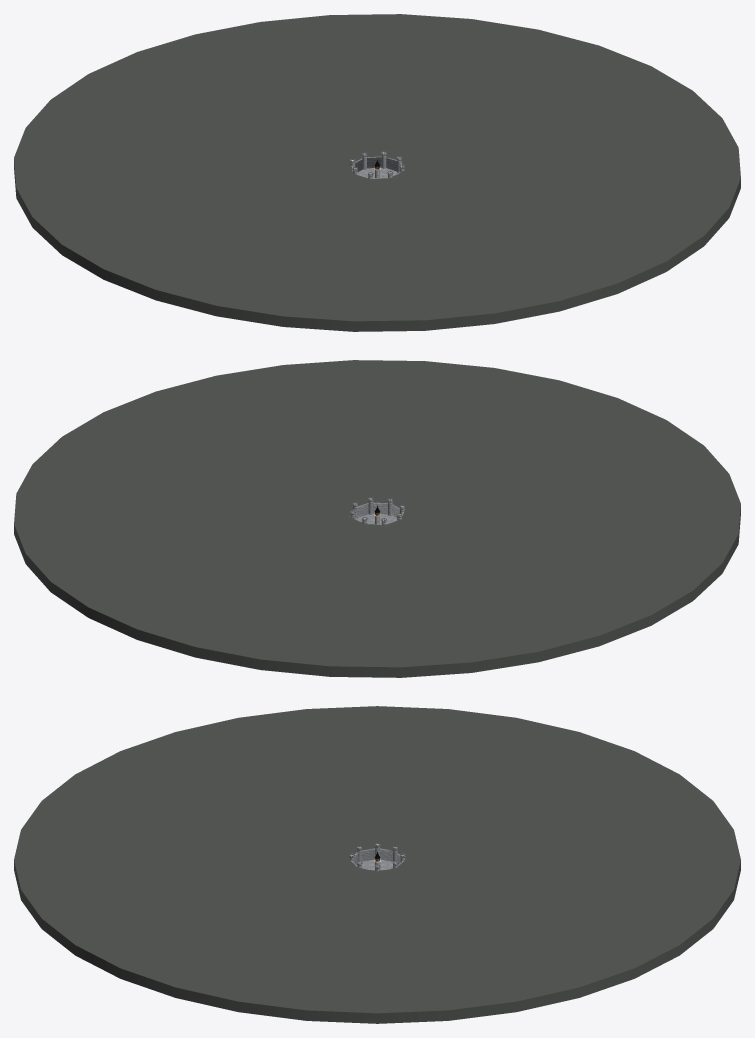
File: stage0.fbx
The picture shows the model from 3 angles, top to bottom: view 1: azimuth 30°, elevation 25°; view 2: azimuth 150°, elevation 25°; view 3: azimuth 270°, elevation 25°; orthographic projection.
Visible parts, largest first — view 1: background2; view 2: background2; view 3: background2.
Boxes of the visible parts, <box> form: background2: <box>14,14,740,331</box>; background2: <box>14,360,740,677</box>; background2: <box>14,706,740,1023</box>.
Bounding box in the file's own units: 100000 × 2898 × 100000.
Materials: 13 (13 with a texture image).
